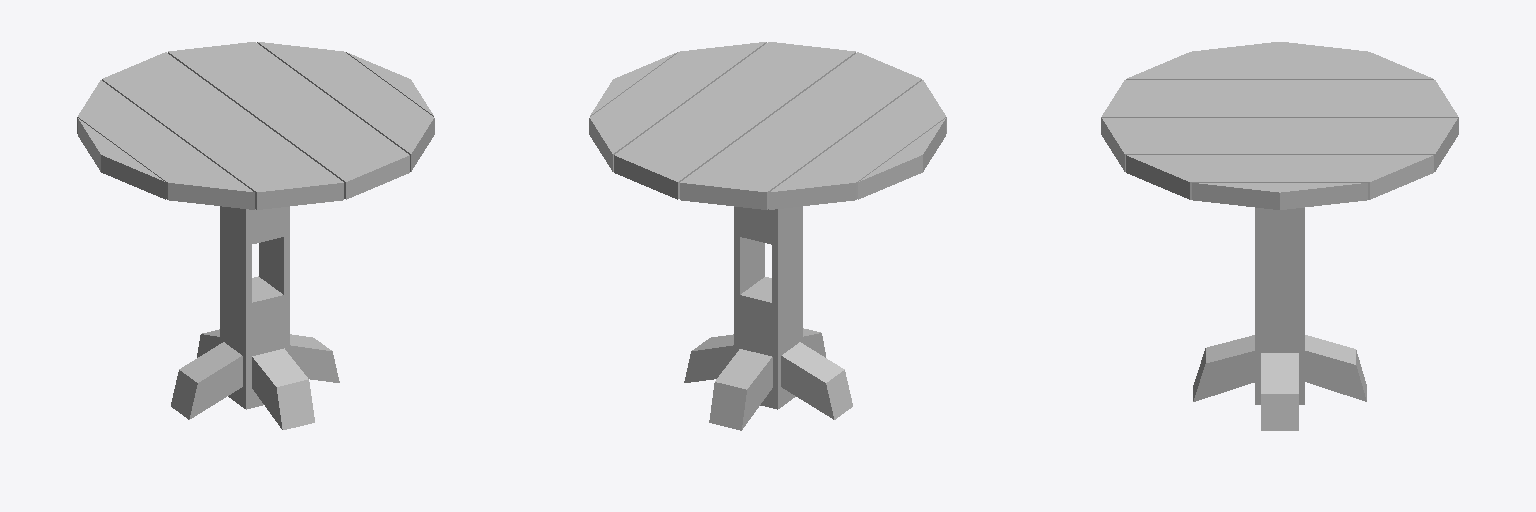
Rendered from tables2.obj.
3 views of the same model, side by side, from view 1: azimuth 30°, elevation 25°; view 2: azimuth 150°, elevation 25°; view 3: azimuth 270°, elevation 25° (orthographic).
Parts seen in each view (by area): view 1: Table_3_Scene.009; view 2: Table_3_Scene.009; view 3: Table_3_Scene.009.
Boxes of the visible parts, <box> form: Table_3_Scene.009: <box>77,42,434,429</box>; Table_3_Scene.009: <box>589,42,946,430</box>; Table_3_Scene.009: <box>1101,42,1458,430</box>.
Bounding box in the file's own units: 1.29 × 1.11 × 1.29.